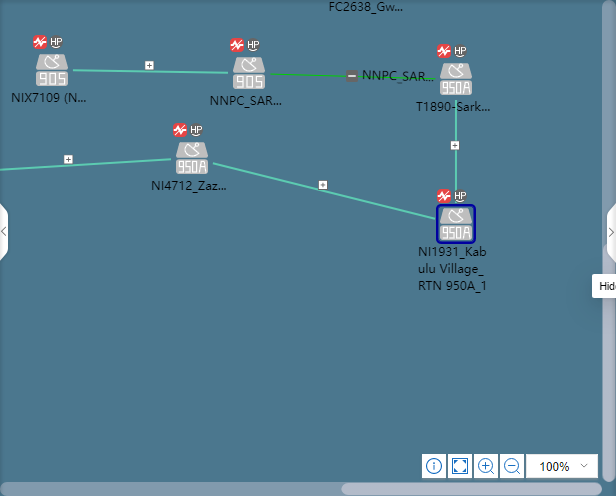Link_Blue: (213, 161, 434, 222), (0, 158, 171, 172), (72, 68, 228, 75), (454, 99, 458, 193)
Link_Green: (271, 73, 438, 82)
RTN_Gray: (439, 208, 472, 240), (176, 142, 207, 174), (233, 57, 264, 88), (36, 54, 67, 85), (440, 63, 471, 94)
